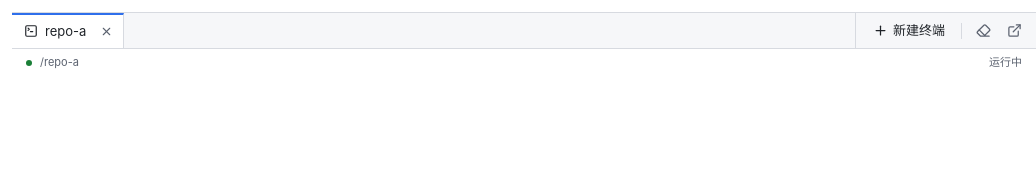
Test: terminal sessions › names sessions by folder, selects new sessions and closes tabs independently
The image size is (1036, 172).
Later steps or results of the test are not shown.
Expected: the tab "repo-a" is shown, [12,15,94,48]
Click the button "新建终端" at (909, 30), box [864,16,954,45]
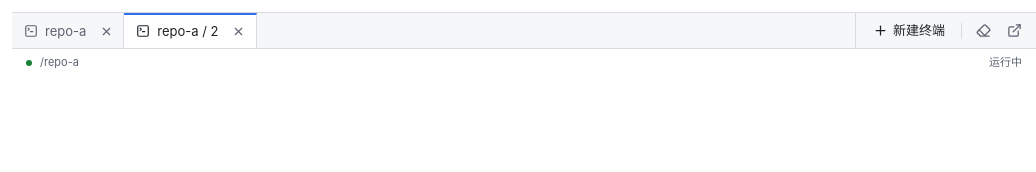
Click the button named "关闭终端 repo-a" at (106, 32), box [94,20,118,44]
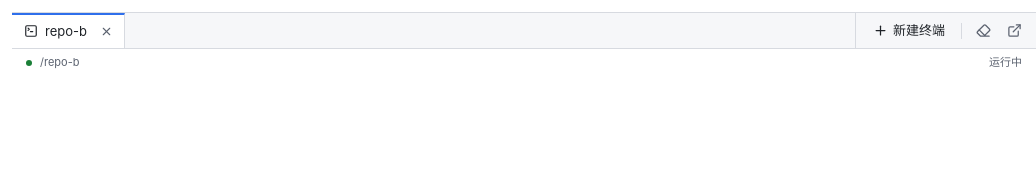
Result: the tab "repo-b" is shown at [12,15,95,48]
